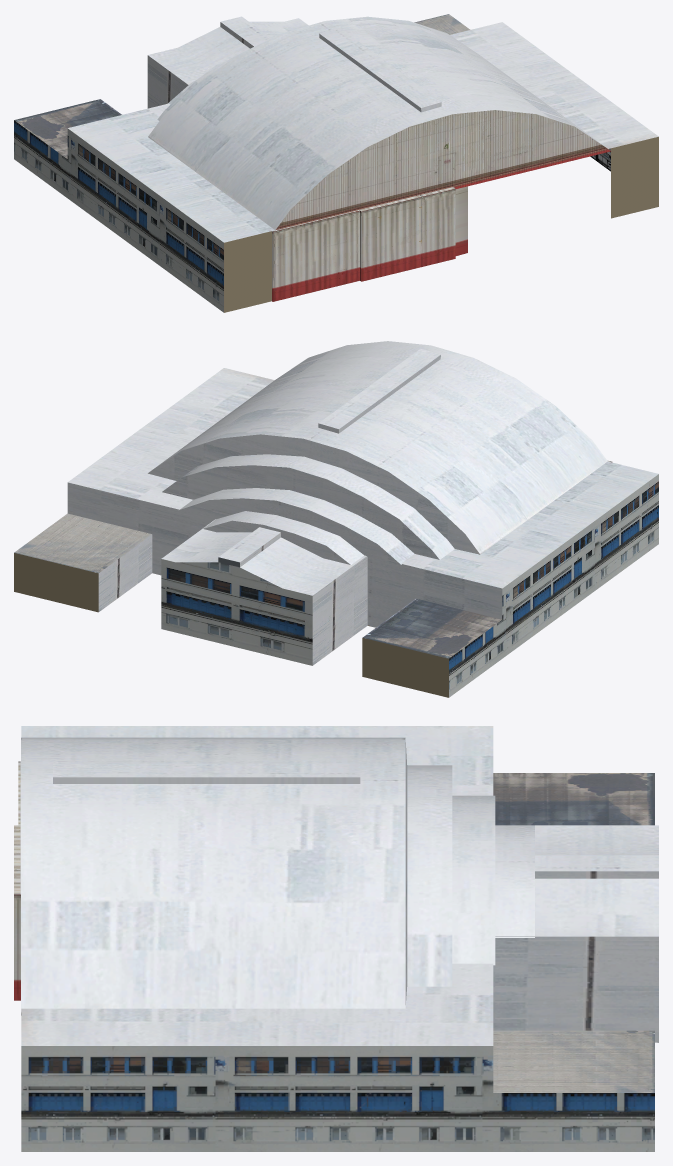
Rendered from HANGAR_BIG.gltf.
3 views of the same model, one above another, from view 1: azimuth 30°, elevation 25°; view 2: azimuth 150°, elevation 25°; view 3: azimuth 270°, elevation 25° (orthographic). The views are drawn at different scales.
Parts seen in each view (by area): view 1: node1; view 2: node1; view 3: node1.
Boxes of the visible parts, x1=… form: node1: x1=14, y1=14, x2=658, y2=312; node1: x1=14, y1=341, x2=658, y2=697; node1: x1=14, y1=726, x2=658, y2=1151.
Bounding box in the file's own units: 77.07 × 24.98 × 65.64.
